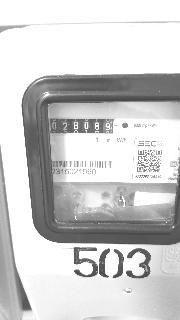1: (52, 123, 56, 130), (85, 123, 89, 130)
3: (63, 123, 67, 130)
9: (74, 123, 78, 130), (95, 123, 99, 130)
:: (106, 124, 110, 131)
